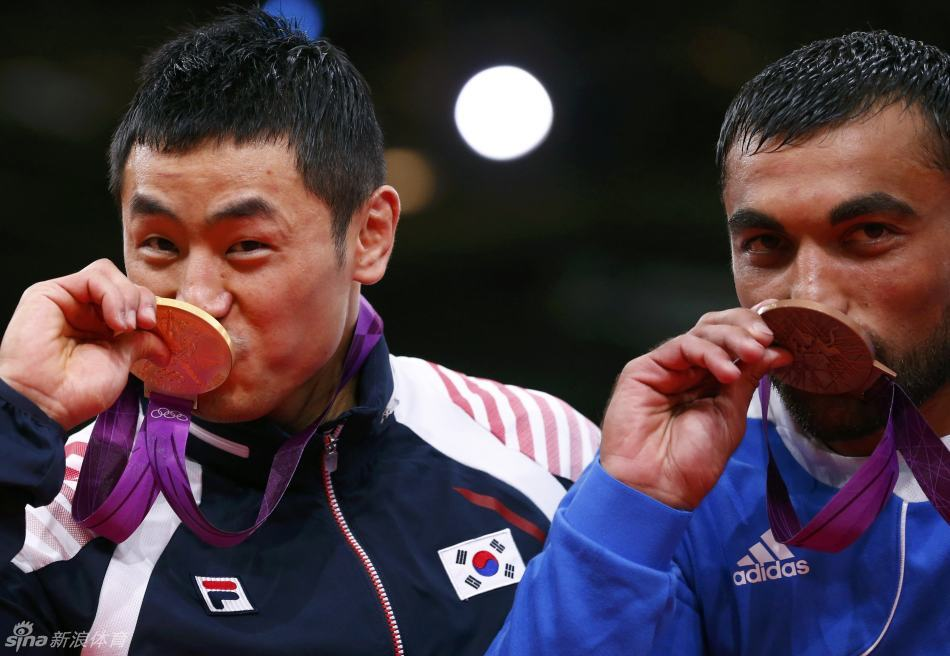face: (115, 133, 342, 416), (734, 124, 949, 405)
